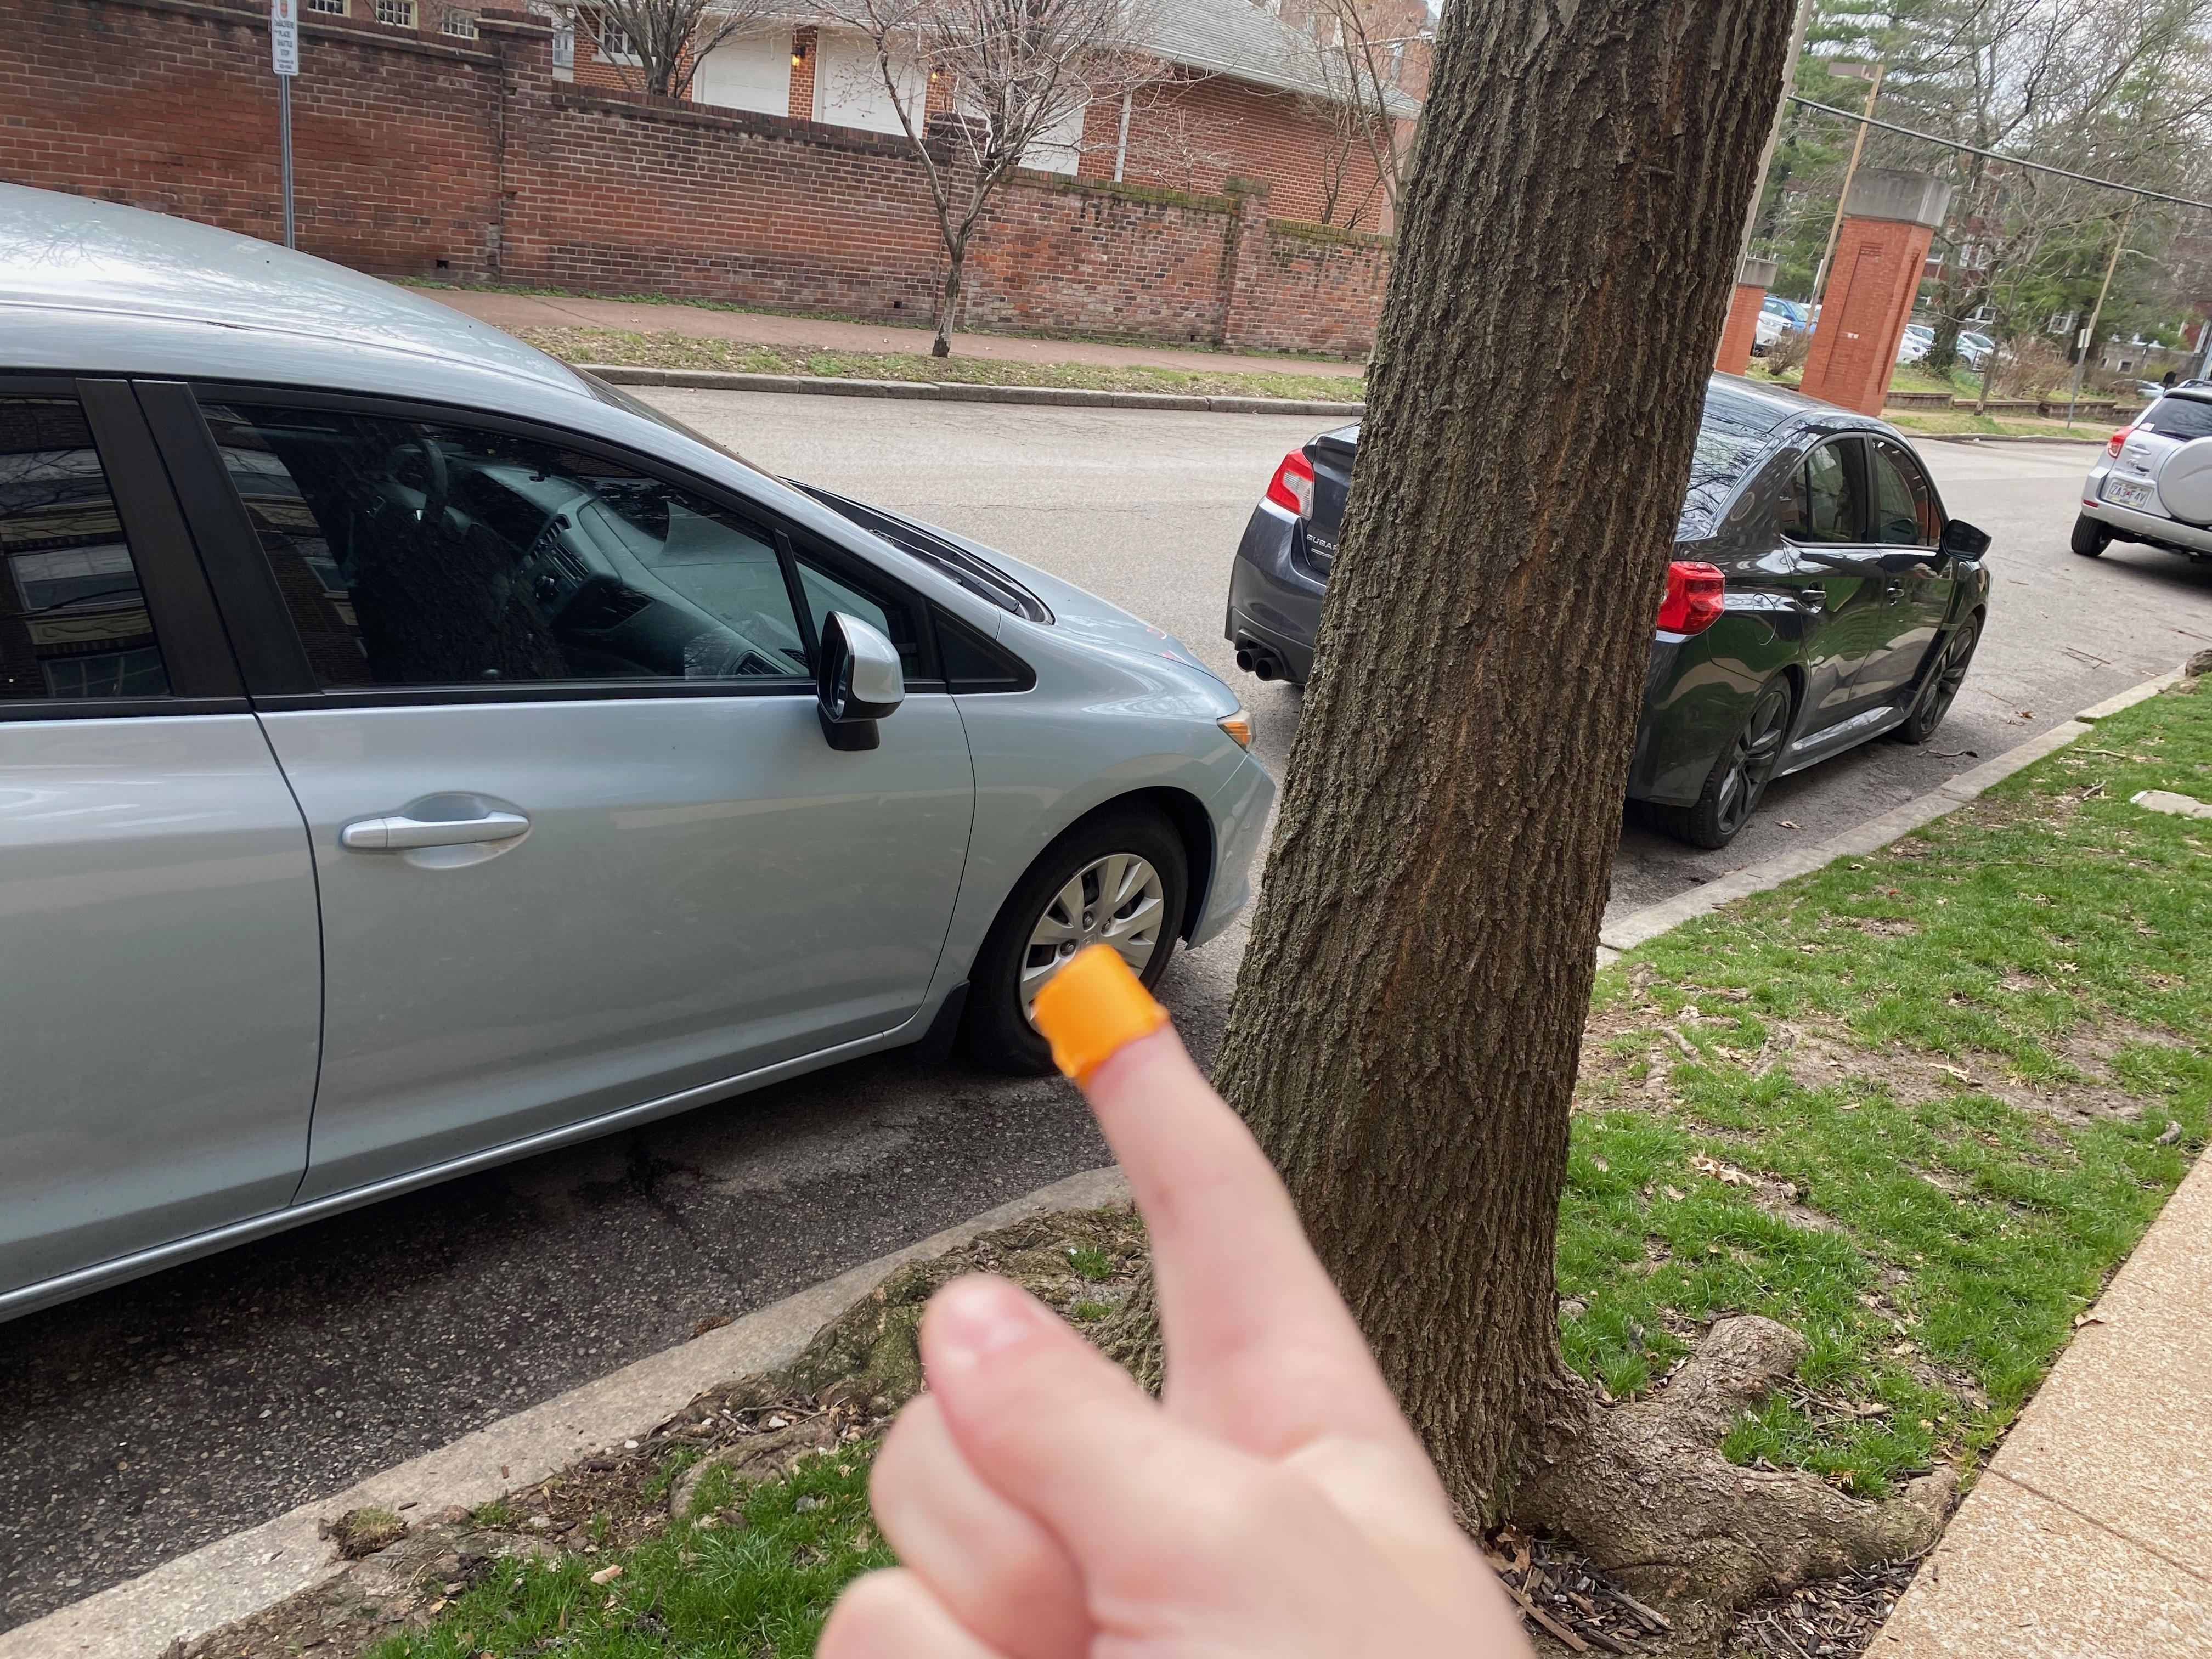fingertip: (1014, 938, 1193, 1108)
